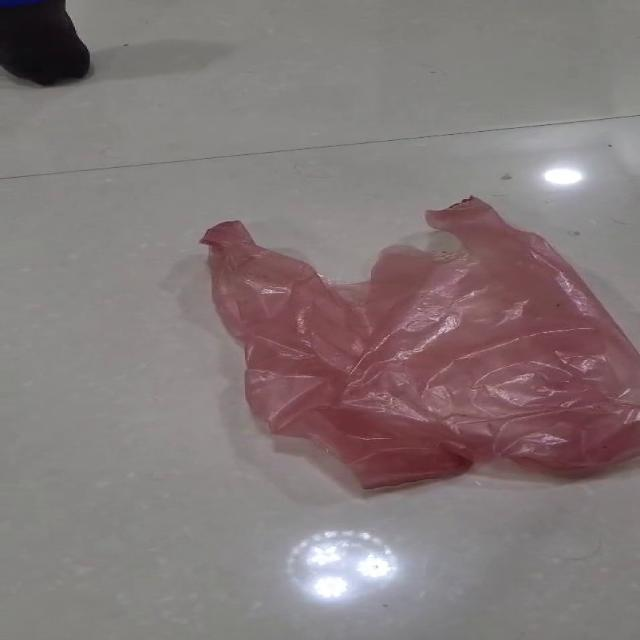plastic: (198, 194, 637, 491)
